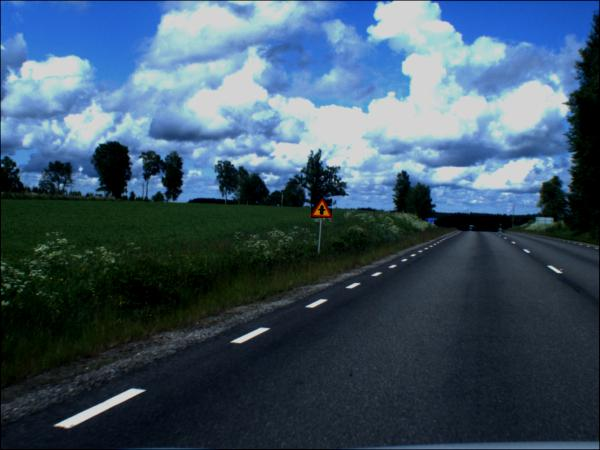WARNING: (311, 199, 333, 220)
